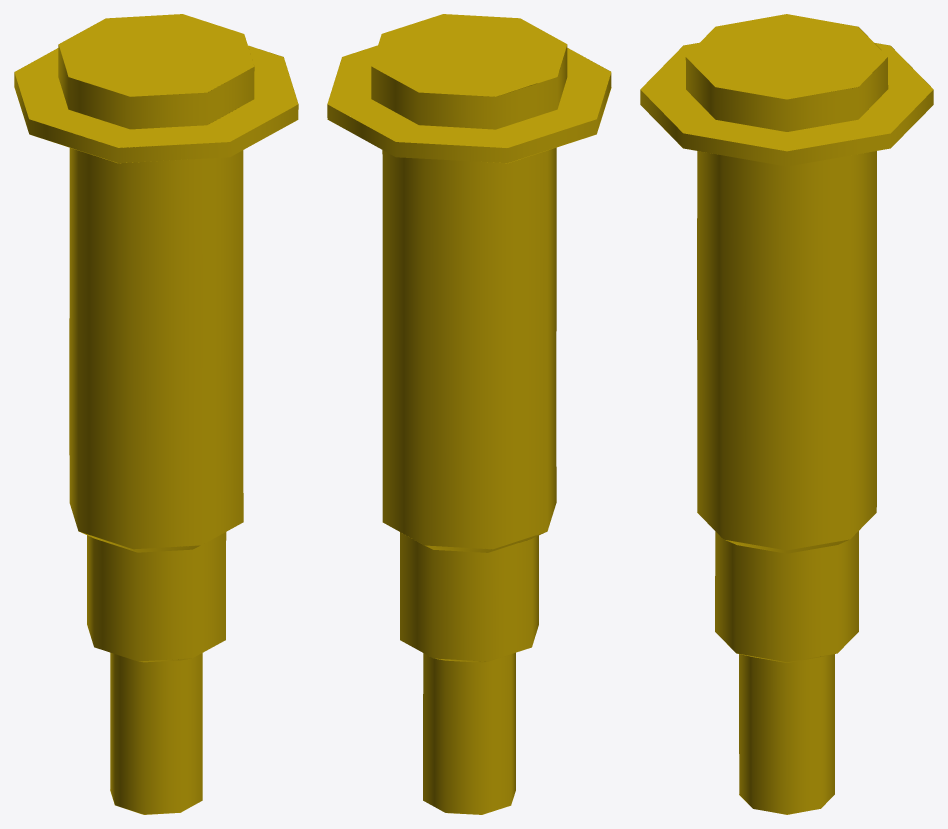
The model's file is original_5.obj.
3 views of the same model, side by side, from view 1: azimuth 30°, elevation 25°; view 2: azimuth 150°, elevation 25°; view 3: azimuth 270°, elevation 25° (orthographic).
Visible parts, largest first — view 1: #ID40; view 2: #ID40; view 3: #ID40.
Boxes of the visible parts, bbox=[...] form: #ID40: bbox=[14, 14, 298, 814]; #ID40: bbox=[327, 14, 611, 814]; #ID40: bbox=[640, 14, 933, 814].
Bounding box in the file's own units: 0.2448 × 0.6793 × 0.2449.
